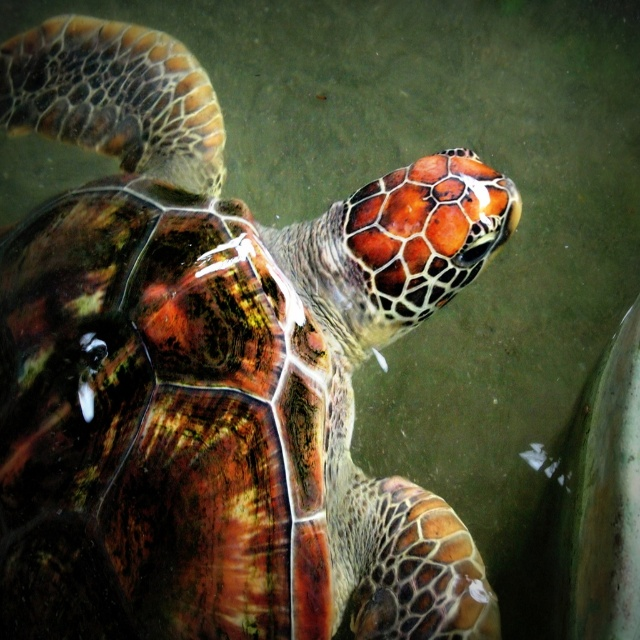Sea turtle: (0, 20, 522, 639)
